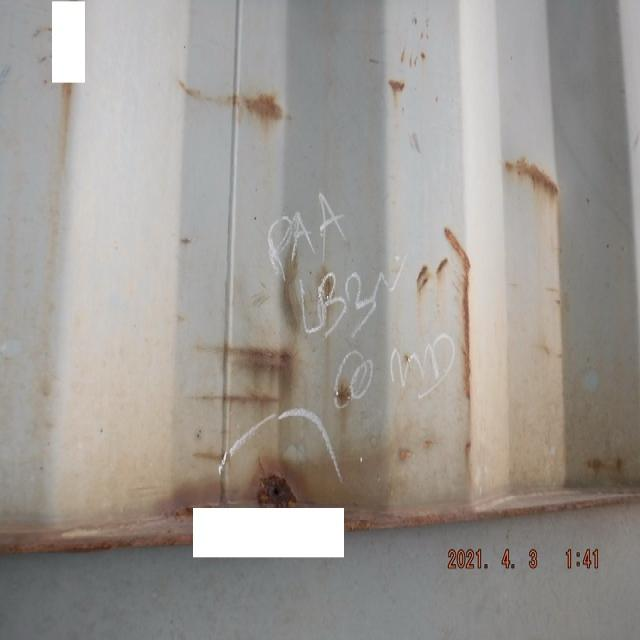hole: (259, 474, 299, 512)
